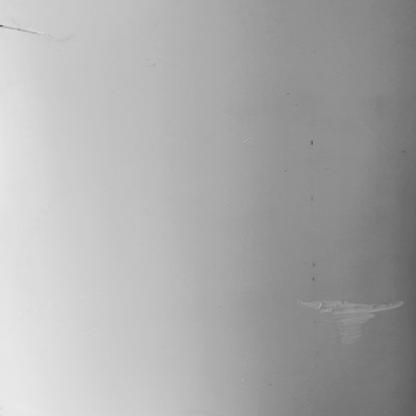sunshang: (299, 299, 407, 346), (1, 17, 48, 38)
